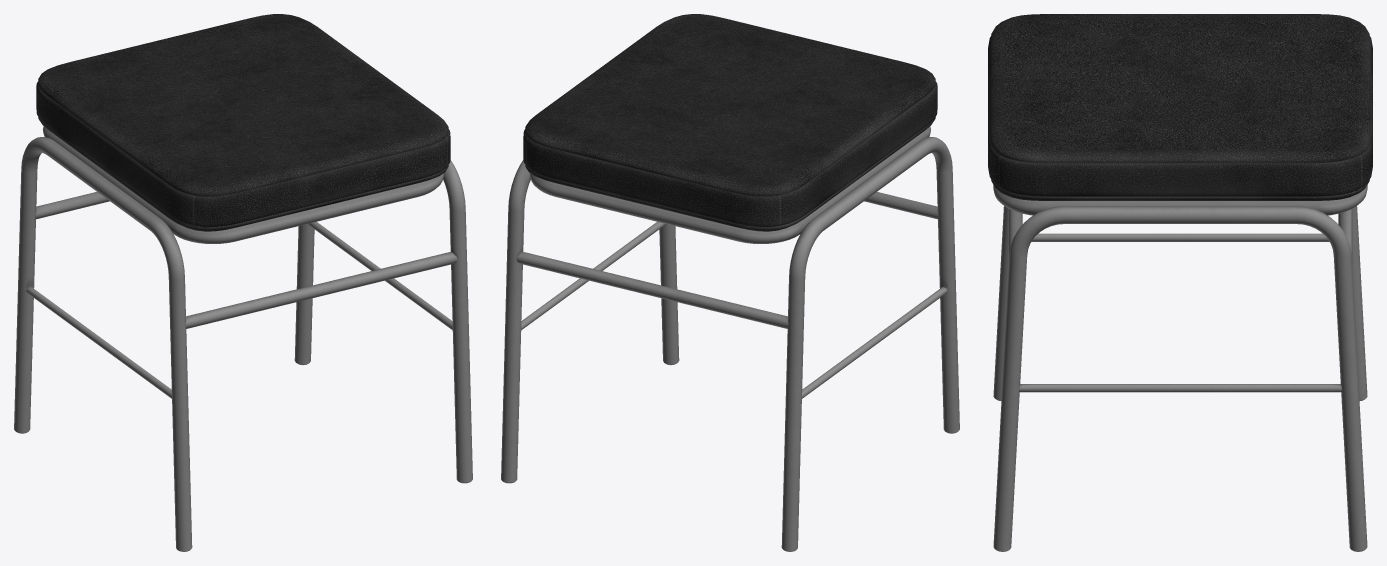
Rendered from ArcadeStool_48.FBX.
The picture shows the model from 3 angles, left to right: view 1: azimuth 30°, elevation 25°; view 2: azimuth 150°, elevation 25°; view 3: azimuth 270°, elevation 25°; orthographic projection. The views are drawn at different scales.
Parts seen in each view (by area): view 1: ArcadeStool_48; view 2: ArcadeStool_48; view 3: ArcadeStool_48.
Part boxes in pixels (box(x1,y1,x2,y2)): ArcadeStool_48: box(14, 14, 472, 551); ArcadeStool_48: box(501, 14, 959, 551); ArcadeStool_48: box(988, 14, 1372, 551).
Bounding box in the file's own units: 42 × 48.38 × 43.2.
